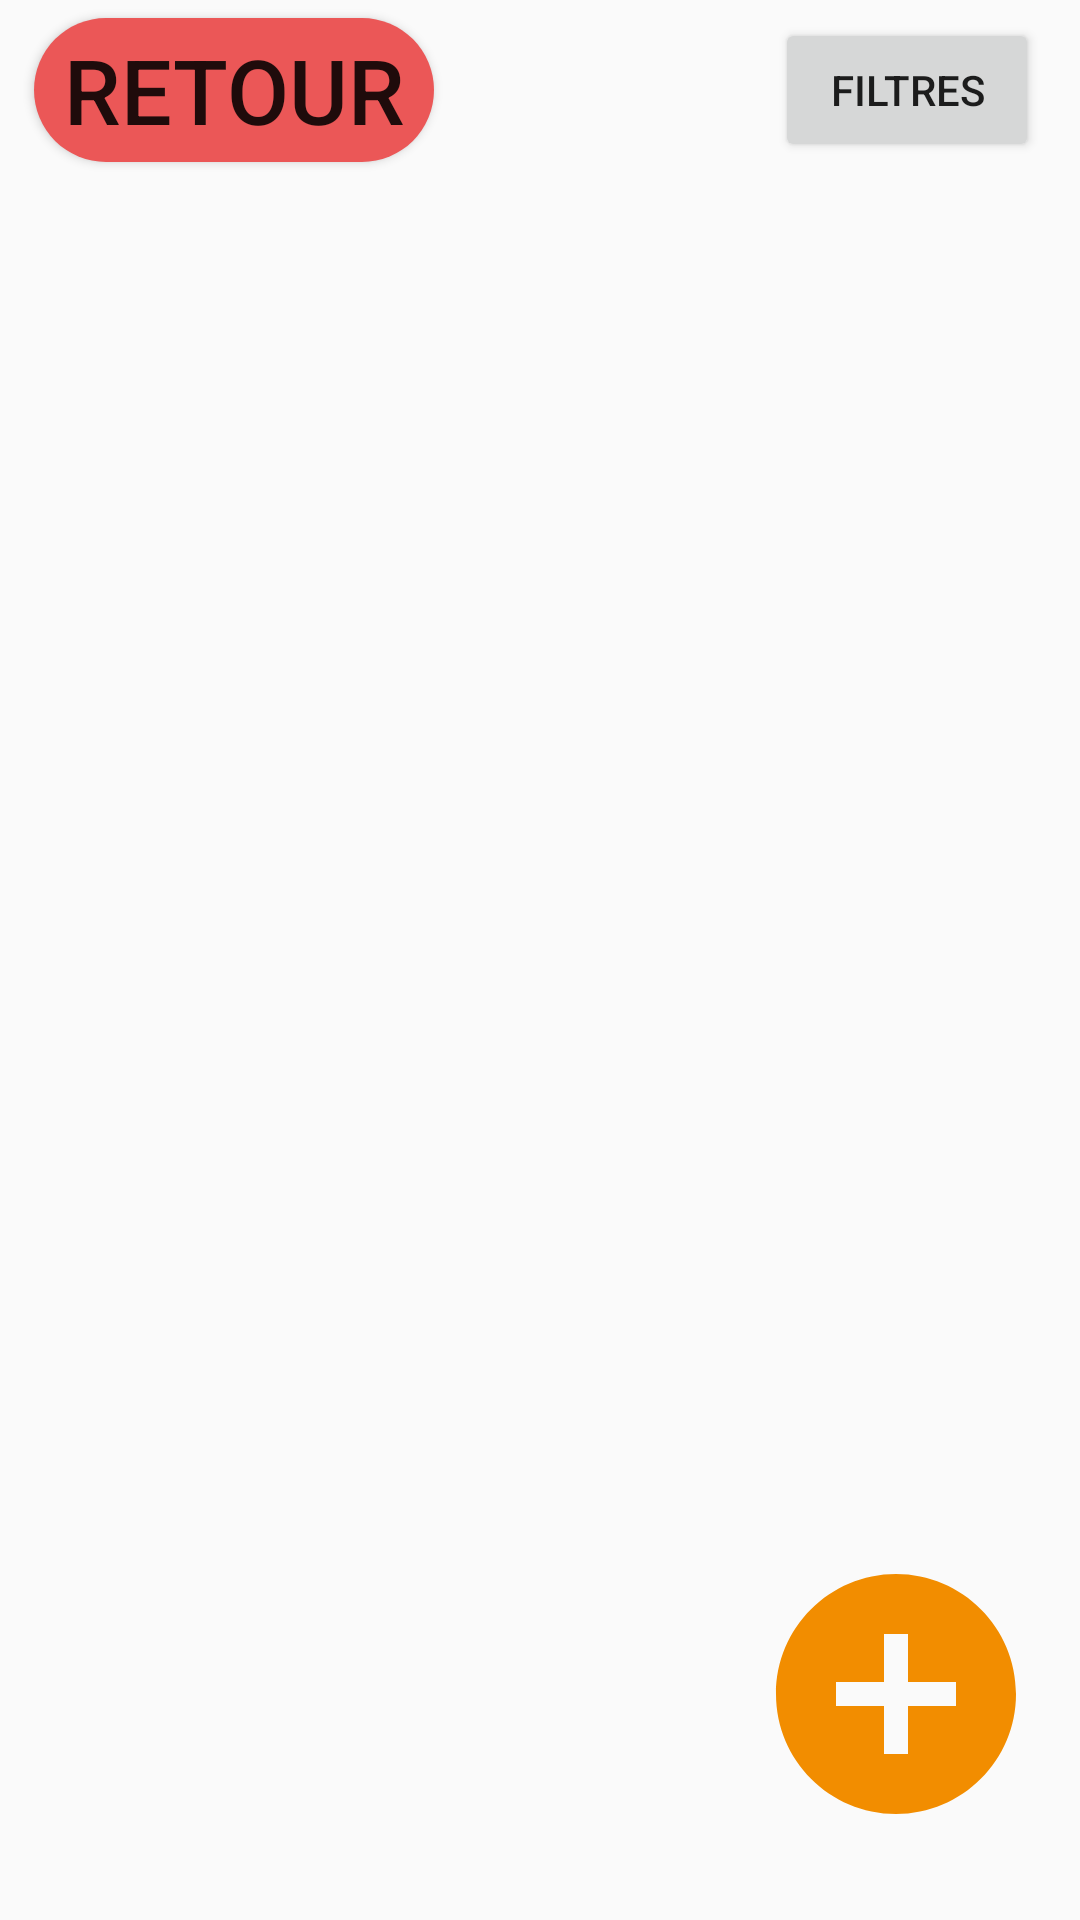

Icons on this 1080*1920 Android screen, each with its box as [x1,y1,x2,y2]:
plus: [776,1574,1016,1814]
